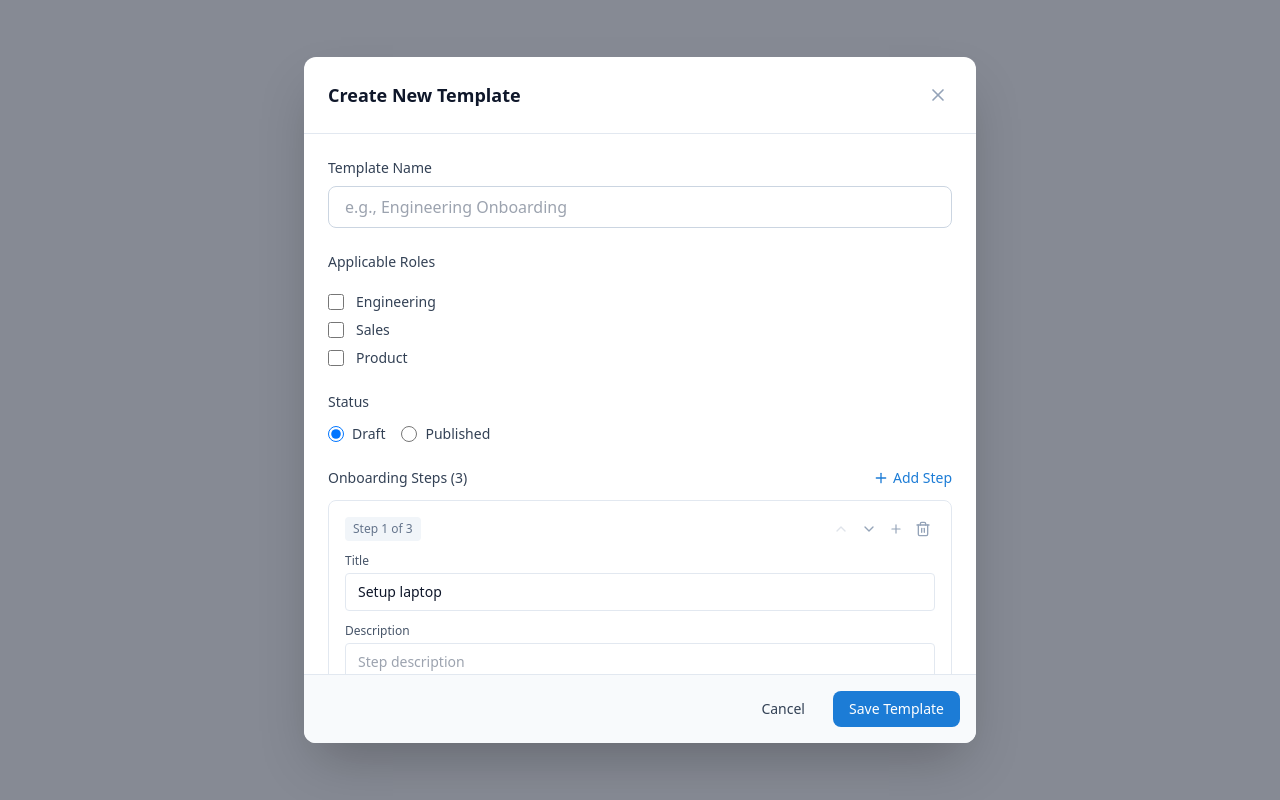
TemplateModal › TemplateModal - initialSteps prop (PDF import) › should still validate form (name, role required) even with pre-filled steps
Click the button "Save Template": (896, 709) 833,691 -> 960,727
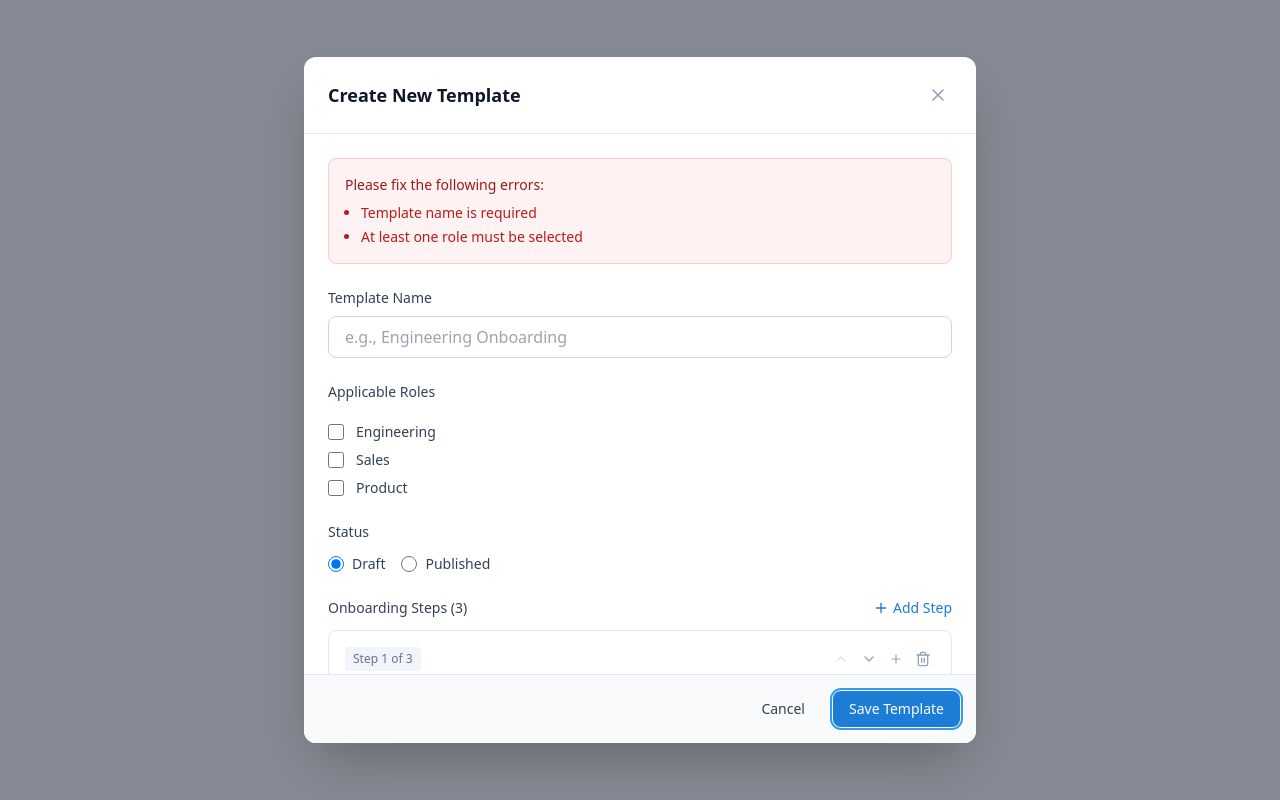
Now the list item "Template name is required" is shown, box 361,203 -> 537,222
Now the list item "At least one role must be selected" is shown, box 361,227 -> 583,246
